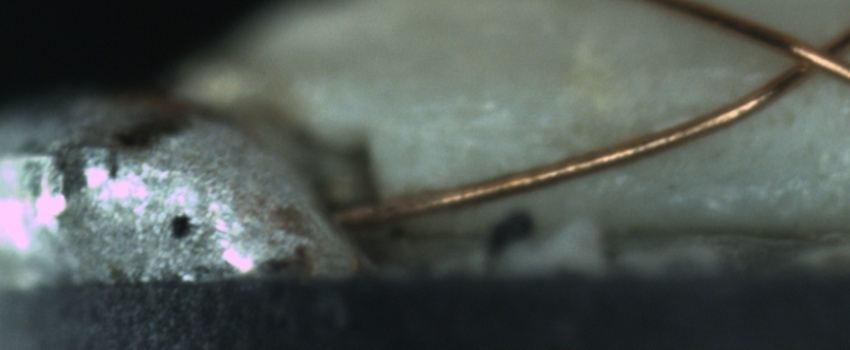CL: (768, 23, 849, 90)
